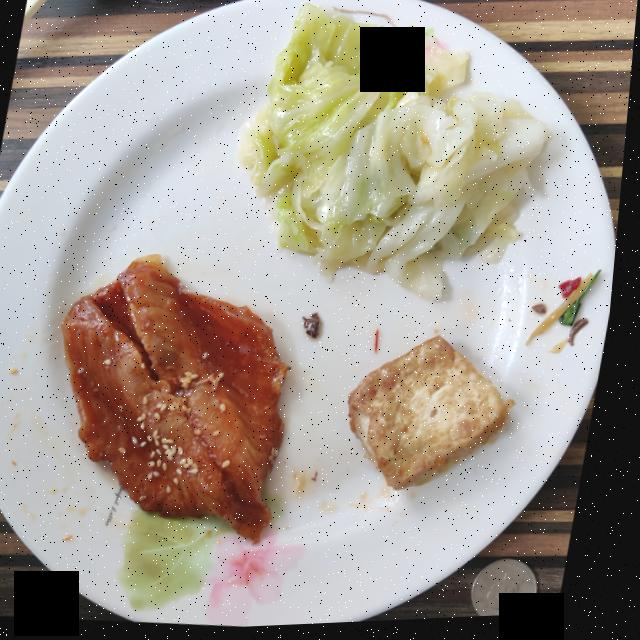Kabayaki sea bream fillet: (68, 256, 294, 542)
cabbage: (240, 5, 552, 304)
coin: (483, 563, 549, 621)
